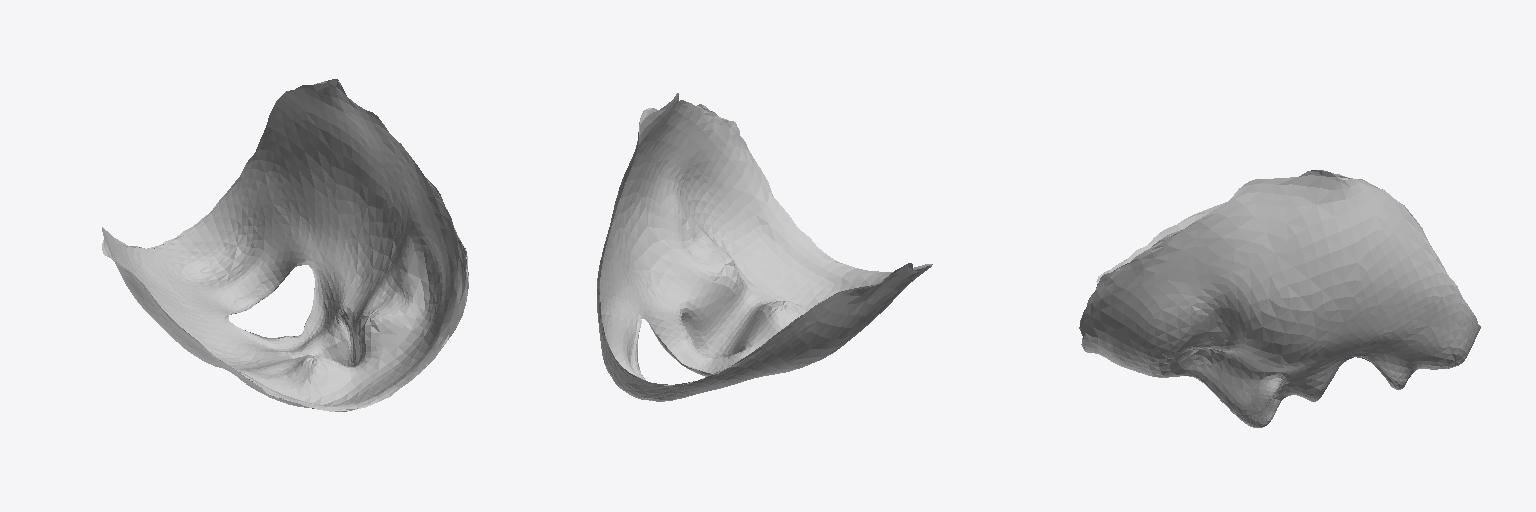
File: face_gab_sfm59.obj
3 views of the same model, side by side, from view 1: azimuth 30°, elevation 25°; view 2: azimuth 150°, elevation 25°; view 3: azimuth 270°, elevation 25° (orthographic).
Bounding box in the file's own units: 168 × 164 × 220.